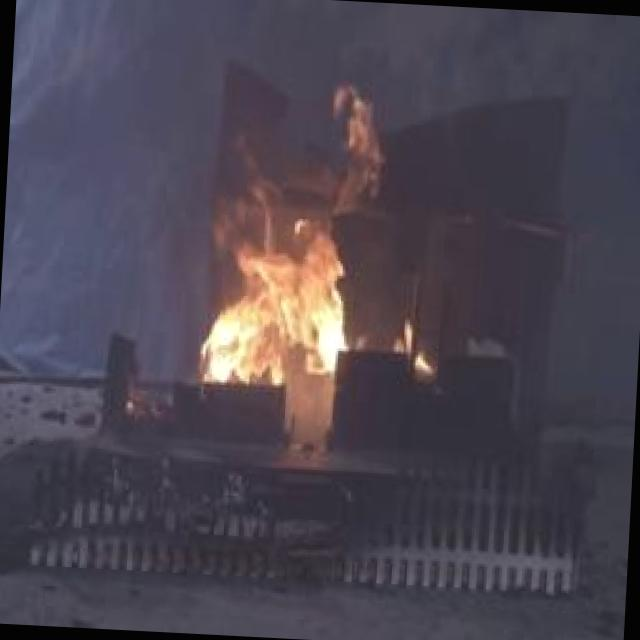fire: (183, 140, 380, 441)
